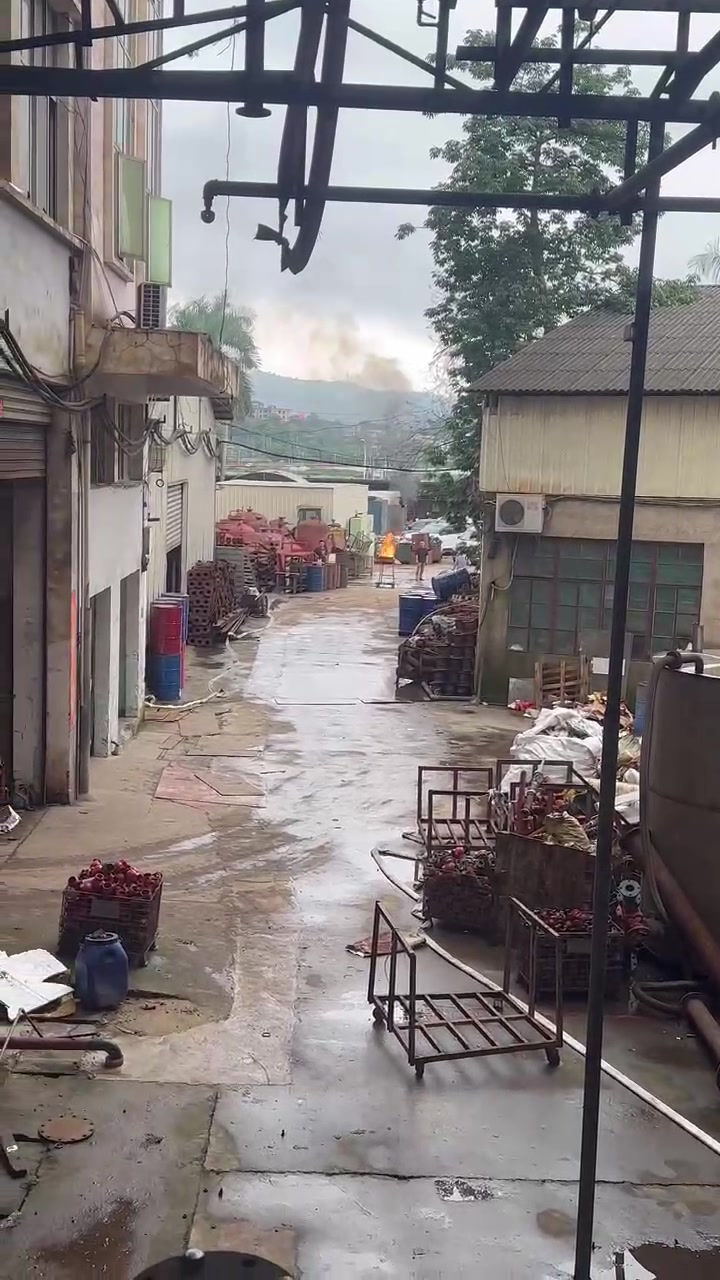fire: (379, 532, 394, 557)
